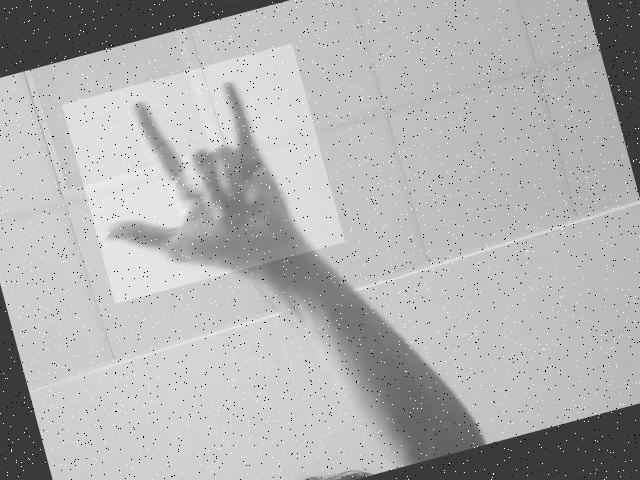I_Love_You: (62, 43, 345, 304)
